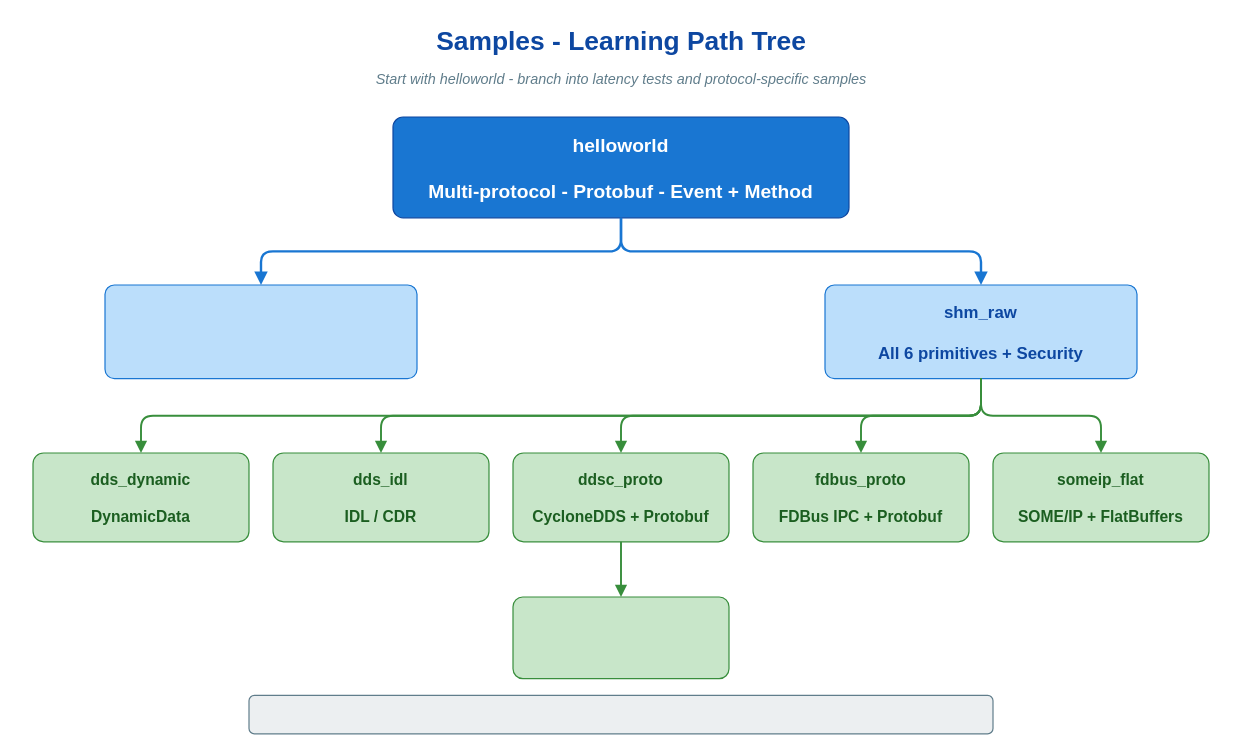
Image size: 1241x755. Some labels were removed from this diagram. The centre of each missing label's shape, as x and y in pixels:
Blue = multi-protocol generic examples Green = protocol-specific examples: (x=620, y=714)
ping_pong Latency measurement with Bytes: (x=260, y=331)
pub_sub_fbs DDSC + FlatBuffers Event: (x=620, y=637)
